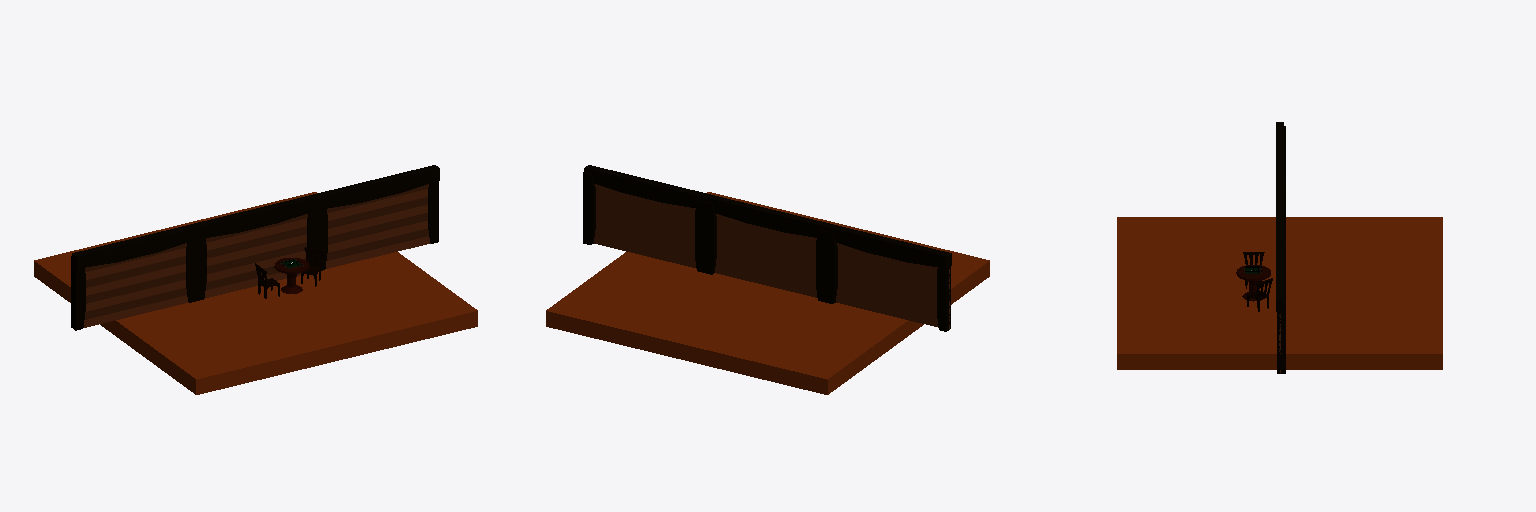
File: MenuBack.obj
3 views of the same model, side by side, from view 1: azimuth 30°, elevation 25°; view 2: azimuth 150°, elevation 25°; view 3: azimuth 270°, elevation 25° (orthographic).
Parts seen in each view (by area): view 1: Cube.003, Cube.005, Cube.008, Cube.001, Cube.009, Cube.006, Cube.002, Cube.007, Cube.004, Cube; view 2: Cube.003, Cube.008, Cube.005, Cube.001, Cube.009, Cube.006, Cube.002, Cube.007, Cube, Cube.004; view 3: Cube.003, Cube.004.
Boxes of the visible parts, box(x1,y1,x2,y2) form: Cube.003: box(34, 192, 477, 394); Cube.005: box(326, 184, 430, 268); Cube.008: box(84, 243, 188, 327); Cube.001: box(204, 214, 307, 298); Cube.009: box(72, 224, 197, 268); Cube.006: box(315, 165, 439, 209); Cube.002: box(194, 194, 318, 238); Cube.007: box(71, 240, 196, 330); Cube.004: box(318, 181, 438, 270); Cube: box(197, 210, 317, 300); Cube.003: box(546, 192, 989, 394); Cube.008: box(836, 243, 949, 329); Cube.005: box(594, 184, 696, 268); Cube.001: box(715, 214, 816, 297); Cube.009: box(826, 224, 951, 266); Cube.006: box(584, 165, 708, 207); Cube.002: box(705, 194, 829, 237); Cube.007: box(825, 231, 950, 331); Cube: box(704, 201, 824, 301); Cube.004: box(583, 172, 704, 272); Cube.003: box(1117, 217, 1442, 369); Cube.004: box(1277, 244, 1285, 373).
Bounding box in the file's own units: 48 × 11.48 × 37.26.